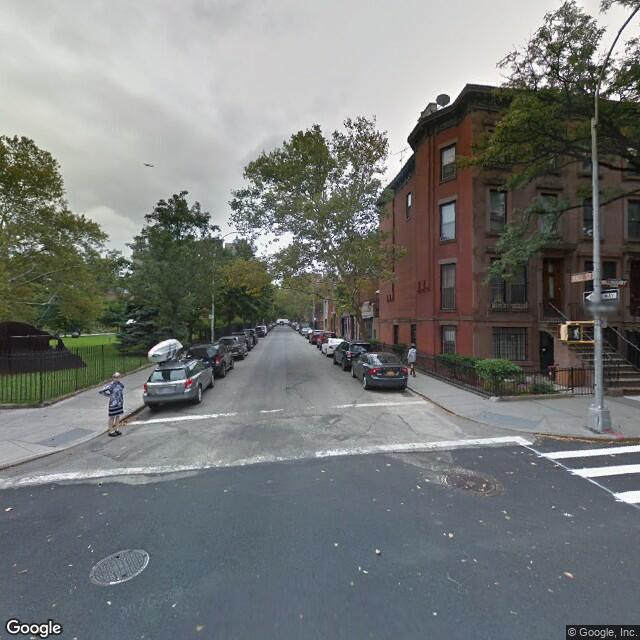litter: (367, 540, 395, 565), (558, 565, 577, 589), (1, 493, 19, 518)
